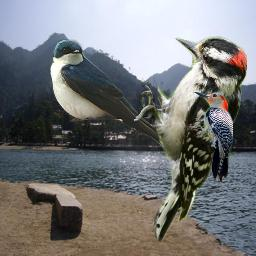Swallow: (50, 39, 177, 148)
Woodpecker: (134, 33, 247, 242), (187, 92, 233, 182)
